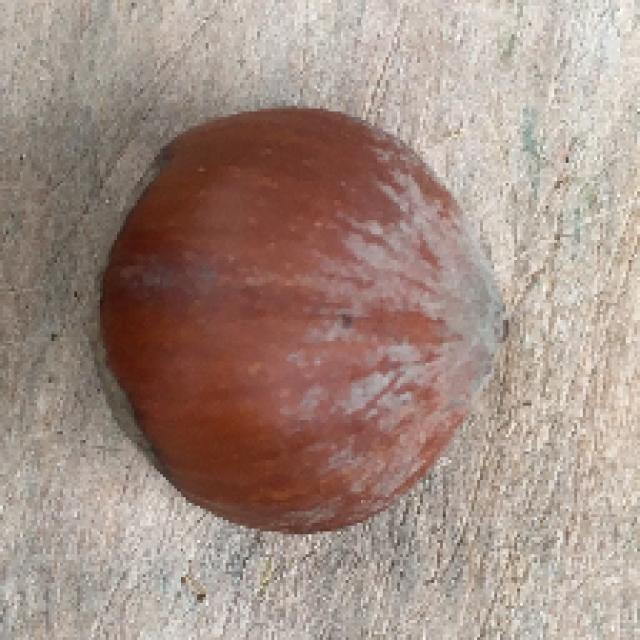QualityHazelnut: (79, 107, 514, 538)
